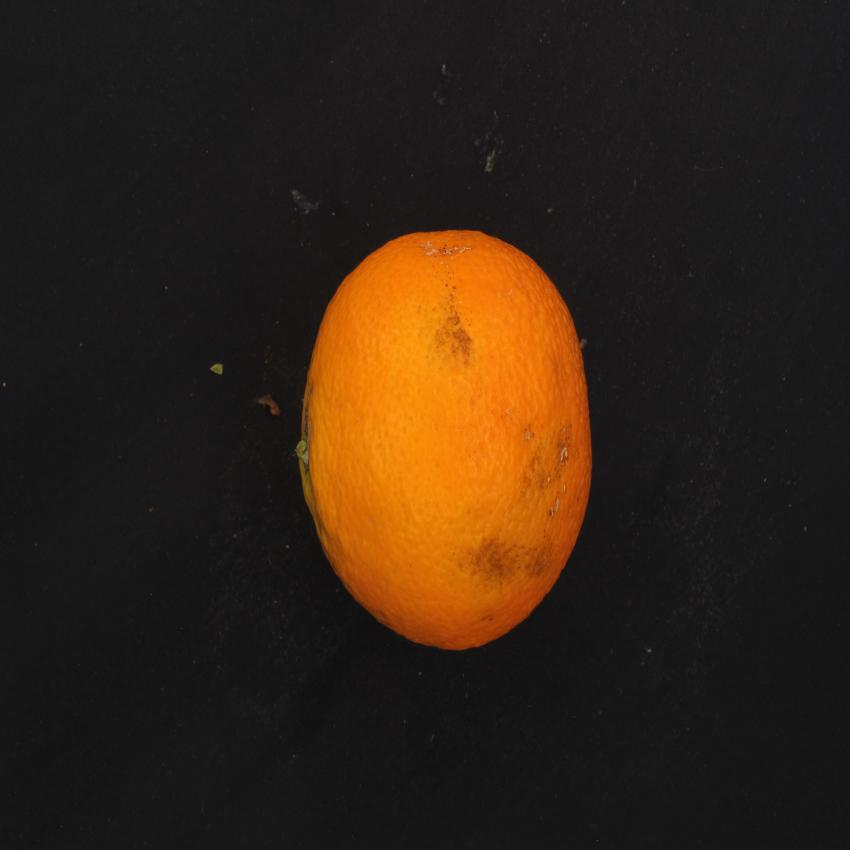Buen estado: (286, 218, 604, 668)
